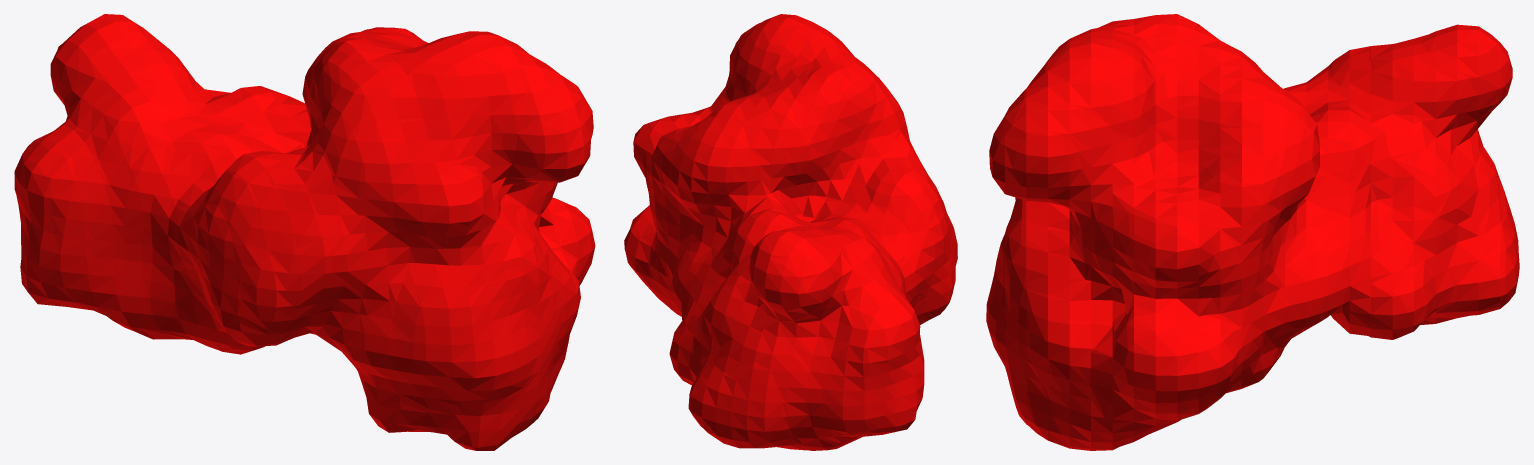
File: ribD_coarse.dae
3 views of the same model, side by side, from view 1: azimuth 30°, elevation 25°; view 2: azimuth 150°, elevation 25°; view 3: azimuth 270°, elevation 25° (orthographic). The views are drawn at different scales.
Parts seen in each view (by area): view 1: ribD; view 2: ribD; view 3: ribD.
Part boxes in pixels (box(x1,y1,x2,y2)): ribD: box(14, 14, 595, 450); ribD: box(624, 14, 957, 450); ribD: box(986, 14, 1519, 450).
Bounding box in the file's own units: 63.47 × 52.99 × 64.88.
